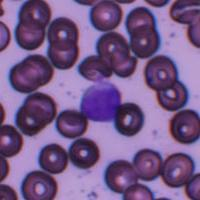L: (80, 78, 123, 123)
